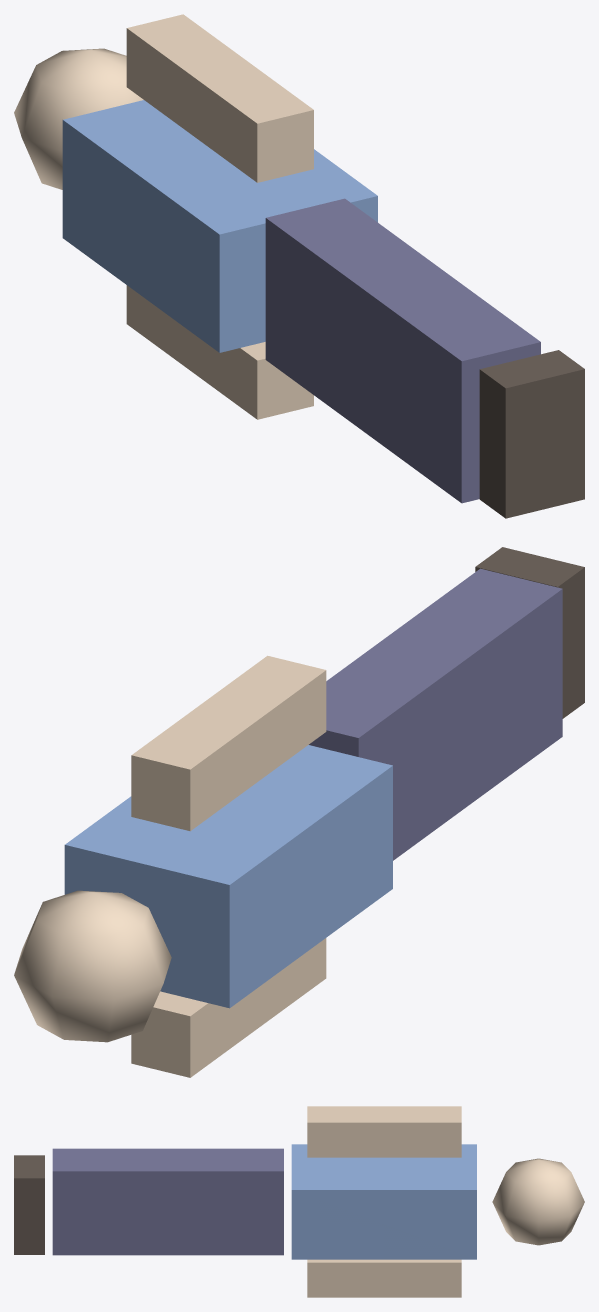
File: Pedestrian_Blue.fbx
3 views of the same model, one above another, from view 1: azimuth 30°, elevation 25°; view 2: azimuth 150°, elevation 25°; view 3: azimuth 270°, elevation 25° (orthographic). The views are drawn at different scales.
Visible parts, largest first — view 1: Pedestrian_1_Torso, Pedestrian_1_LegL, Pedestrian_1_ArmL, Pedestrian_1_LegR, Pedestrian_1_ShoeL, Pedestrian_1_Head, Pedestrian_1_ArmR, Pedestrian_1_ShoeR; view 2: Pedestrian_1_Torso, Pedestrian_1_LegL, Pedestrian_1_ArmL, Pedestrian_1_Head, Pedestrian_1_LegR, Pedestrian_1_ArmR, Pedestrian_1_ShoeL, Pedestrian_1_ShoeR; view 3: Pedestrian_1_Torso, Pedestrian_1_LegL, Pedestrian_1_LegR, Pedestrian_1_ArmL, Pedestrian_1_Head, Pedestrian_1_ArmR, Pedestrian_1_ShoeL, Pedestrian_1_ShoeR.
Part boxes in pixels (x1,y1,x2,y2): Pedestrian_1_Torso: [62, 100, 377, 352]; Pedestrian_1_LegL: [265, 198, 540, 443]; Pedestrian_1_ArmL: [126, 14, 313, 182]; Pedestrian_1_LegR: [265, 301, 479, 503]; Pedestrian_1_ShoeL: [479, 350, 584, 459]; Pedestrian_1_Head: [14, 48, 143, 189]; Pedestrian_1_ArmR: [126, 285, 313, 419]; Pedestrian_1_ShoeR: [479, 429, 584, 518]; Pedestrian_1_Torso: [64, 745, 392, 1008]; Pedestrian_1_LegL: [309, 568, 562, 796]; Pedestrian_1_ArmL: [131, 655, 326, 831]; Pedestrian_1_Head: [14, 890, 171, 1042]; Pedestrian_1_LegR: [393, 651, 562, 860]; Pedestrian_1_ArmR: [131, 938, 326, 1077]; Pedestrian_1_ShoeL: [475, 547, 584, 656]; Pedestrian_1_ShoeR: [562, 629, 584, 718]; Pedestrian_1_Torso: [291, 1144, 476, 1259]; Pedestrian_1_LegL: [52, 1148, 283, 1220]; Pedestrian_1_LegR: [52, 1206, 283, 1255]; Pedestrian_1_ArmL: [307, 1106, 461, 1157]; Pedestrian_1_Head: [492, 1158, 584, 1245]; Pedestrian_1_ArmR: [307, 1259, 461, 1297]; Pedestrian_1_ShoeL: [14, 1155, 44, 1220]; Pedestrian_1_ShoeR: [14, 1213, 44, 1254].
Size of the model in its own units: 0.14 by 0.25 by 0.74.
